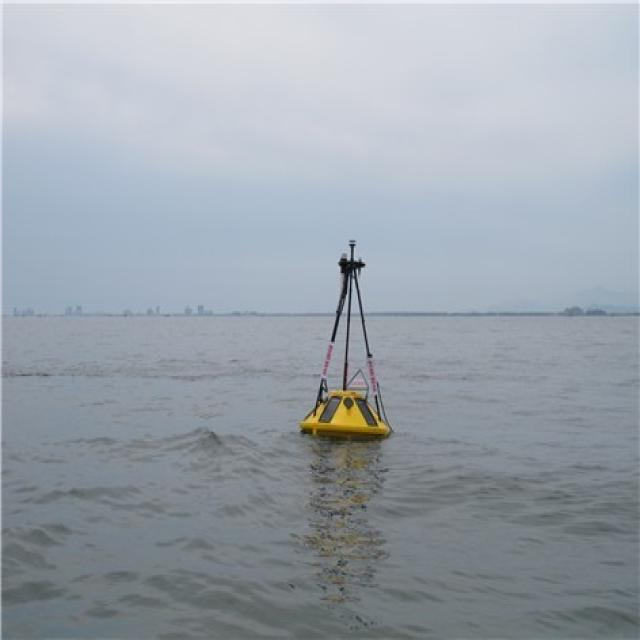buoy: (301, 230, 396, 441)
